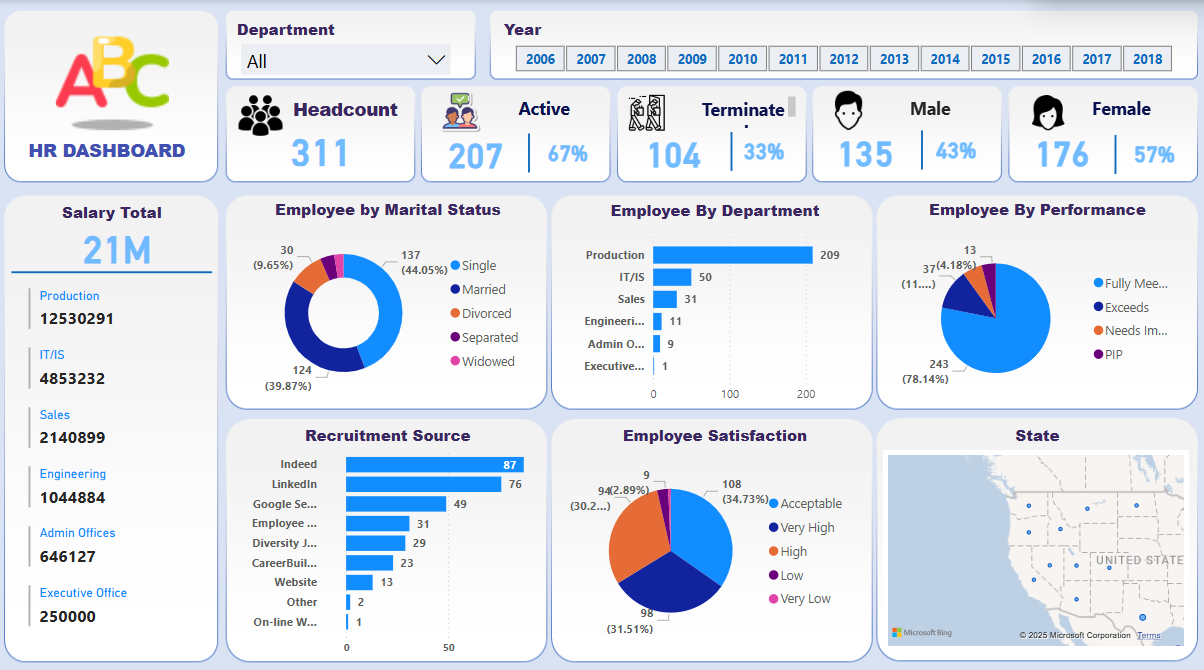

The page's visual inventory and layout, read from the dashboard file:
{"tool":"powerbi","page":{"name":"Page 1","canvas":[1280,720],"ordinal":0},"visuals":[{"type":"textbox","box":[27,139.9,186,42.9],"z":0},{"type":"textbox","box":[248.3,15,186.7,31.7],"z":1000},{"type":"slicer","fields":{"Values":["HRData.Department"]},"box":[247.9,36.6,241.6,42.9],"z":2000},{"type":"textbox","box":[531.7,15,186.7,31.7],"z":3000},{"type":"slicer","fields":{"Values":["HRData.Hiring Year"]},"box":[522.9,41.3,745.4,41.3],"z":4000},{"type":"textbox","box":[306.8,97,127.2,42.9],"z":5000},{"type":"textbox","box":[532.5,97,92.2,42.9],"z":6000},{"type":"textbox","box":[735.9,97,114.4,42.9],"z":7000},{"type":"textbox","box":[937.7,97,100.1,42.9],"z":8000},{"type":"textbox","box":[1144.4,97,95.4,42.9],"z":9000},{"type":"textbox","box":[260.7,205,305.2,33.4],"z":10000},{"type":"textbox","box":[607.2,206.6,305.2,31.8],"z":11000},{"type":"textbox","box":[948.9,205,305.2,33.4],"z":12000},{"type":"textbox","box":[260.7,445,305.2,42.9],"z":13000},{"type":"textbox","box":[607.2,445,305.2,42.9],"z":14000},{"type":"textbox","box":[948.9,445,305.2,42.9],"z":15000},{"type":"textbox","box":[14.3,208.2,213,42.9],"z":16000},{"type":"card","fields":{"Values":["All Measures.Headcount"]},"box":[278.1,133.5,127.2,47.7],"z":17000},{"type":"card","fields":{"Values":["All Measures.Active"]},"box":[460.9,138.3,89,46.1],"z":18000},{"type":"card","fields":{"Values":["All Measures.Active %"]},"box":[565.8,139.9,74.7,42.9],"z":19000},{"type":"shape","box":[556.3,141.5,12.7,41.3],"z":20000},{"type":"card","fields":{"Values":["All Measures.Terminated"]},"box":[670.7,136.7,89,47.7],"z":21000},{"type":"card","fields":{"Values":["All Measures.Terminated %"]},"box":[775,138.2,74.7,42.9],"z":22000},{"type":"shape","box":[770.9,139.9,12.7,41.3],"z":23000},{"type":"card","fields":{"Values":["All Measures.Male"]},"box":[874.2,135.1,89,49.3],"z":24000},{"type":"card","fields":{"Values":["All Measures.Male %"]},"box":[978.5,137.2,74.7,42.9],"z":25000},{"type":"shape","box":[972.7,138.3,12.7,41.3],"z":26000},{"type":"card","fields":{"Values":["All Measures.Female"]},"box":[1084,135.1,89,49.3],"z":27000},{"type":"card","fields":{"Values":["All Measures.Female %"]},"box":[1188.3,141.4,74.7,42.9],"z":28000},{"type":"shape","box":[1179.3,143,12.7,41.3],"z":29000},{"type":"donutChart","fields":{"Category":["HRData.MaritalStatus"],"Y":["All Measures.Headcount"]},"box":[247.9,238.4,317.9,186],"z":30000},{"type":"clusteredBarChart","fields":{"Y":["All Measures.Headcount"],"Category":["HRData.Department"]},"box":[604,238.4,308.3,197.1],"z":31000},{"type":"pieChart","fields":{"Y":["All Measures.Headcount"],"Category":["HRData.PerformanceScore"]},"box":[948.9,249.5,305.2,174.8],"z":32000},{"type":"barChart","fields":{"Category":["HRData.RecruitmentSource"],"Y":["All Measures.Headcount"]},"box":[247.9,462.5,321.1,240],"z":33000},{"type":"pieChart","fields":{"Y":["All Measures.Headcount"],"Category":["HRData.Satisfaction Status"]},"box":[604,476.8,305.2,213],"z":34000},{"type":"card","fields":{"Values":["Sum(HRData.Salary)"]},"box":[47.7,236.8,155.8,47.7],"z":36000},{"type":"shape","box":[14.3,276.6,213,23.8],"z":37000},{"type":"multiRowCard","fields":{"Values":["Sum(HRData.Salary)","HRData.Department"]},"box":[27,300.4,189.1,397.4],"z":38000},{"type":"image","box":[1084,93.8,60.4,50.9],"z":39000},{"type":"image","box":[864.6,89,73.1,55.6],"z":40000},{"type":"image","box":[656.4,93.8,62,50.9],"z":41000},{"type":"image","box":[460.9,89,57.2,57.2],"z":42000},{"type":"image","box":[249.5,93.8,57.2,57.2],"z":43000},{"type":"image","box":[41.3,12.7,160.5,130.3],"z":44000},{"type":"map","fields":{"Category":["HRData.State"],"Size":["All Measures.Headcount"]},"box":[938.5,477.2,324.5,213.1],"z":44001}]}

Visuals, with their boxes in screenshot pixels (x1, y1, x2, y2), scaled from the page's 1280x720 canvas onto the 1204x670 screenshot:
textbox: [25, 130, 200, 170]
textbox: [234, 14, 409, 43]
slicer - HRData.Department: [233, 34, 460, 74]
textbox: [500, 14, 676, 43]
slicer - HRData.Hiring Year: [492, 38, 1193, 77]
textbox: [289, 90, 408, 130]
textbox: [501, 90, 588, 130]
textbox: [692, 90, 800, 130]
textbox: [882, 90, 976, 130]
textbox: [1076, 90, 1166, 130]
textbox: [245, 191, 532, 222]
textbox: [571, 192, 858, 222]
textbox: [893, 191, 1180, 222]
textbox: [245, 414, 532, 454]
textbox: [571, 414, 858, 454]
textbox: [893, 414, 1180, 454]
textbox: [13, 194, 214, 234]
card - All Measures.Headcount: [262, 124, 381, 169]
card - All Measures.Active: [434, 129, 517, 172]
card - All Measures.Active %: [532, 130, 602, 170]
shape: [523, 132, 535, 170]
card - All Measures.Terminated: [631, 127, 715, 172]
card - All Measures.Terminated %: [729, 129, 799, 169]
shape: [725, 130, 737, 169]
card - All Measures.Male: [822, 126, 906, 172]
card - All Measures.Male %: [920, 128, 991, 168]
shape: [915, 129, 927, 167]
card - All Measures.Female: [1020, 126, 1103, 172]
card - All Measures.Female %: [1118, 132, 1188, 172]
shape: [1109, 133, 1121, 172]
donutChart - HRData.MaritalStatus x All Measures.Headcount: [233, 222, 532, 395]
clusteredBarChart - All Measures.Headcount x HRData.Department: [568, 222, 858, 405]
pieChart - All Measures.Headcount x HRData.PerformanceScore: [893, 232, 1180, 395]
barChart - HRData.RecruitmentSource x All Measures.Headcount: [233, 430, 535, 654]
pieChart - All Measures.Headcount x HRData.Satisfaction Status: [568, 444, 855, 642]
card - Sum(HRData.Salary): [45, 220, 191, 265]
shape: [13, 257, 214, 280]
multiRowCard - Sum(HRData.Salary) x HRData.Department: [25, 280, 203, 649]
image: [1020, 87, 1076, 135]
image: [813, 83, 882, 135]
image: [617, 87, 676, 135]
image: [434, 83, 487, 136]
image: [235, 87, 288, 141]
image: [39, 12, 190, 133]
map - HRData.State x All Measures.Headcount: [883, 444, 1188, 642]
